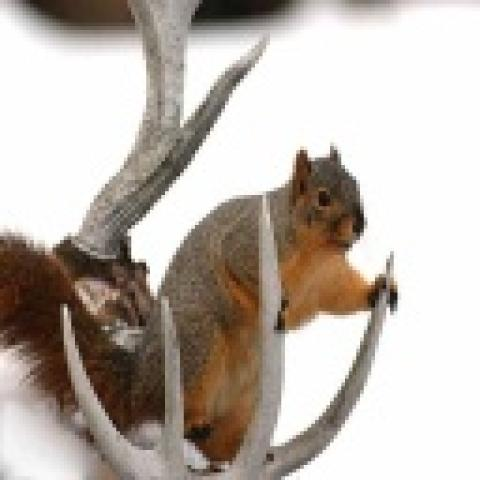small_animal: (0, 138, 398, 472)
